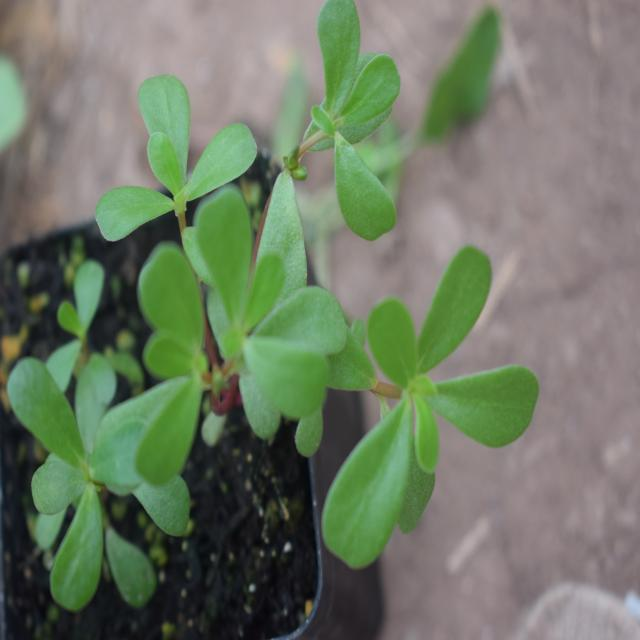purslane: (31, 55, 542, 577)
